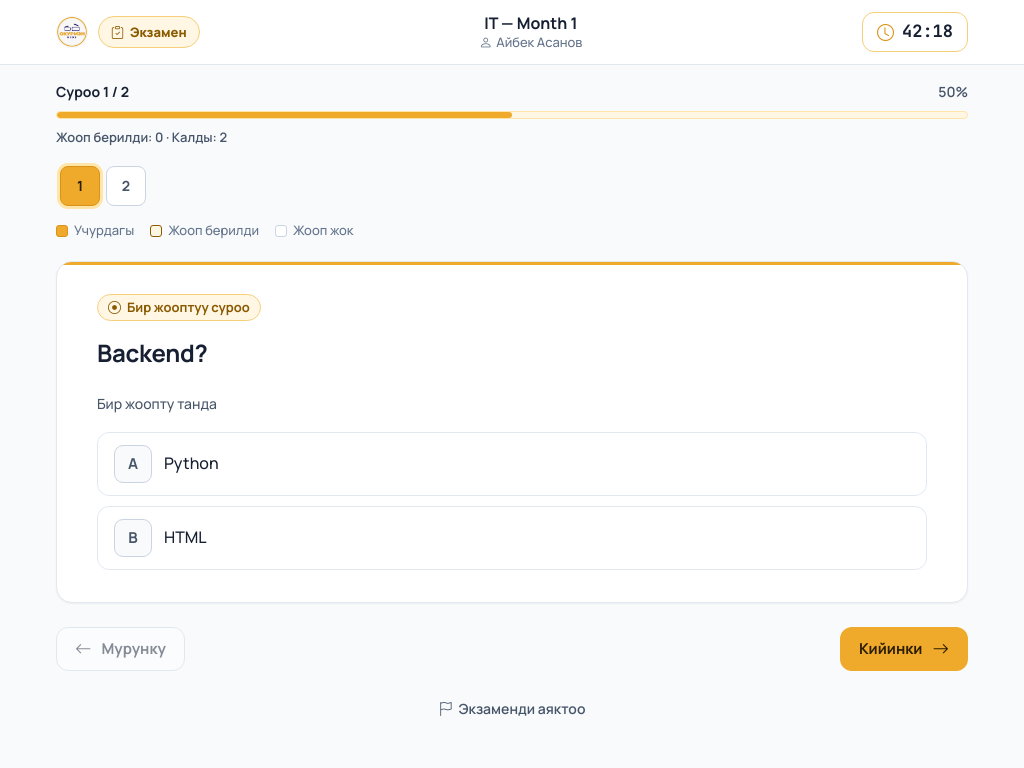
Test: exam on the shared test screen › opens from the exam link, autosaves, asks before finishing and shows the exam result
Expected: the text "Экзамен" is shown, [130,22,187,42]
Expected: the text "IT — Month 1" is shown, [484,12,578,34]
Click the text "Python". click: (191, 463)
box: [164,452,219,474]
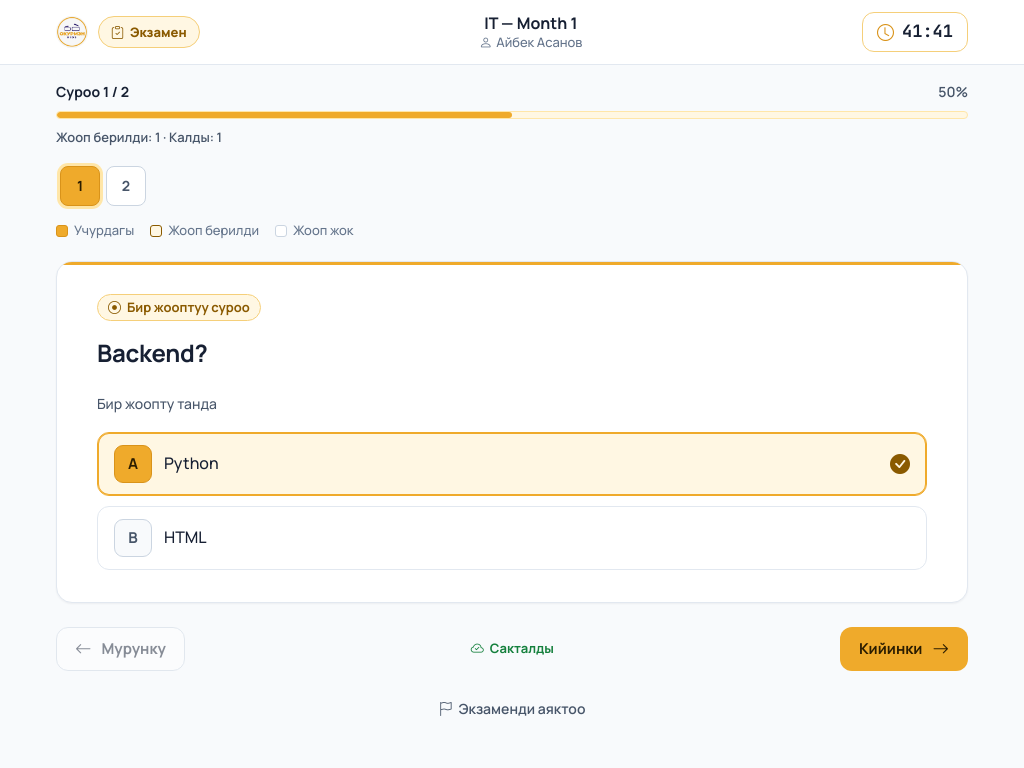
Now the text "Жооп берилди: 1 · Калды: 1" is shown, box [56,128,222,146]
Click the button "Экзаменди аяктоо". click: (512, 709)
box: [431,687,594,731]
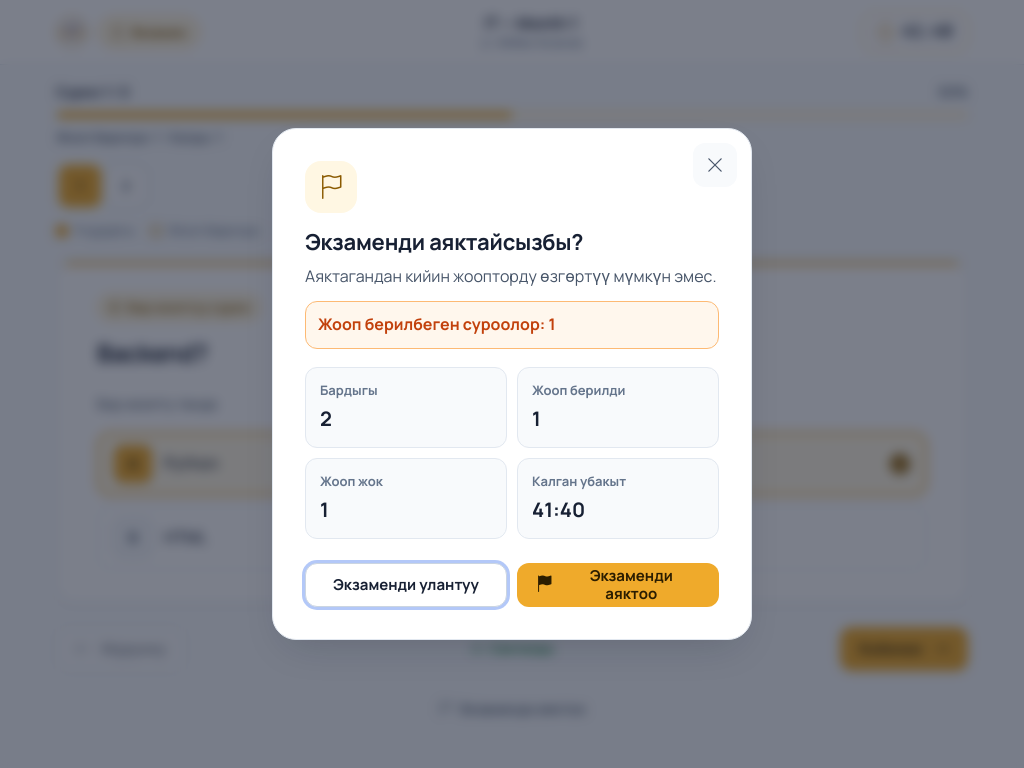
Now the text "Аяктагандан кийин жоопторду өзгөртүү мүмкүн эмес." is shown, box [305,264,719,289]
Now the text "Жооп берилбеген суроолор: 1" is shown, box [318,313,556,335]
Click the button "Экзаменди аяктоо". click: (618, 585)
box: [517,563,719,607]
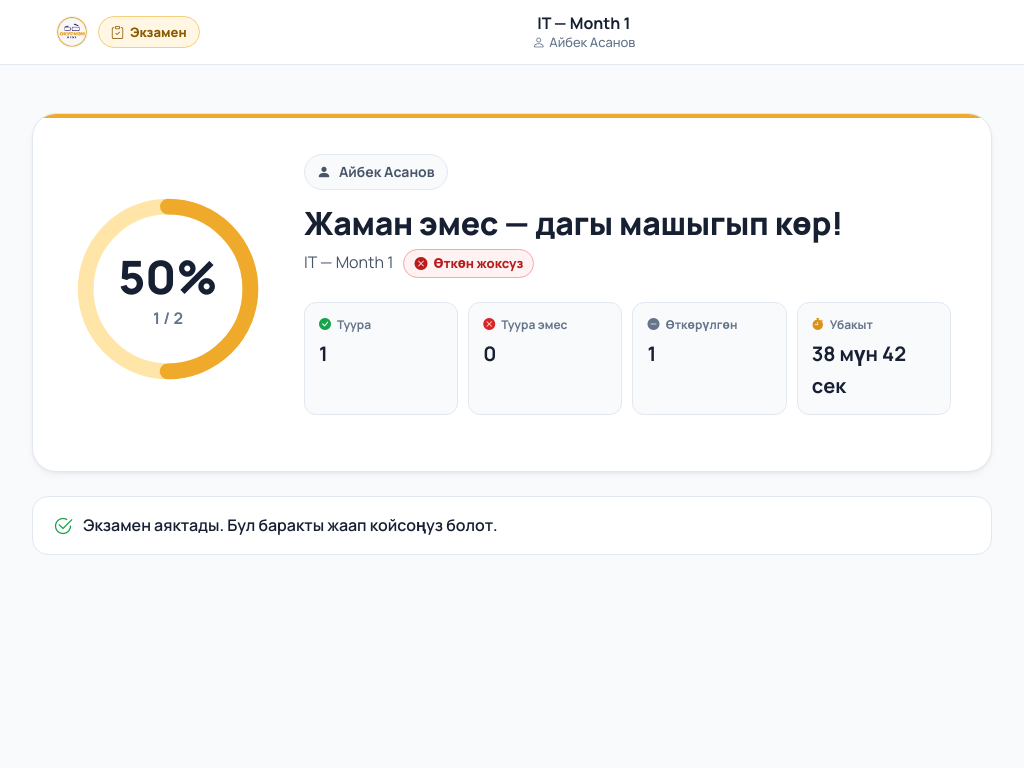
Now the element with class "result-card" is shown, box [32,113,992,472]
Now the text "Экзамен аяктады. Бул баракты жаап койсоңуз болот." is shown, box [32,496,992,555]
